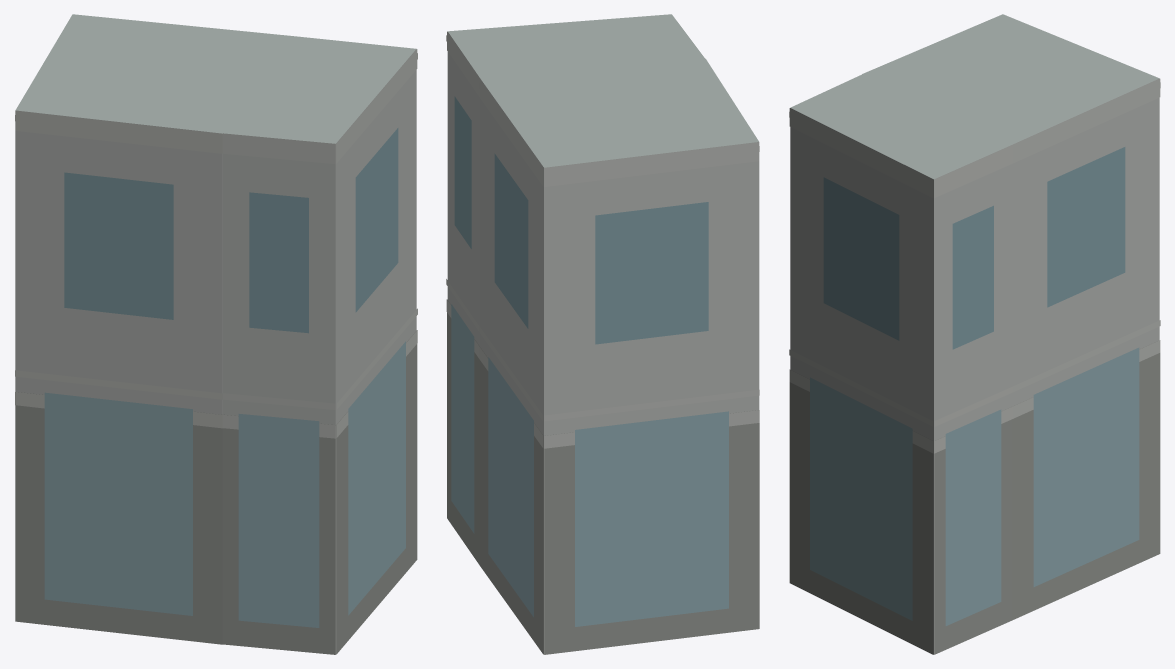
The model's file is survey-upis-32915639.glb.
The picture shows the model from 3 angles, left to right: view 1: azimuth 30°, elevation 25°; view 2: azimuth 150°, elevation 25°; view 3: azimuth 270°, elevation 25°; orthographic projection. The views are drawn at different scales.
Visible parts, largest first — view 1: survey-upis-32915639.tmp; view 2: survey-upis-32915639.tmp; view 3: survey-upis-32915639.tmp.
Part boxes in pixels (x1,y1,x2,y2): survey-upis-32915639.tmp: (15, 14, 417, 654); survey-upis-32915639.tmp: (446, 14, 759, 654); survey-upis-32915639.tmp: (789, 14, 1160, 654).
Size of the model in its own units: 4.57 by 6.1 by 4.32.
